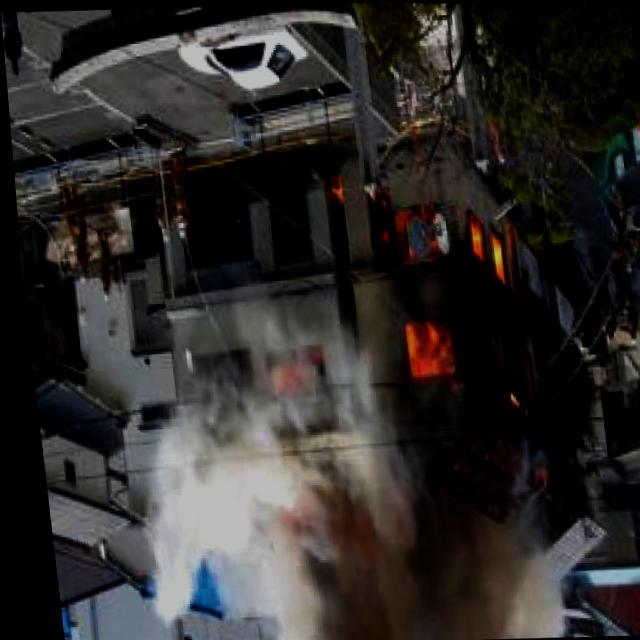helmet: (313, 148, 565, 441)
no_helmet: (120, 375, 397, 640), (374, 436, 533, 640)
